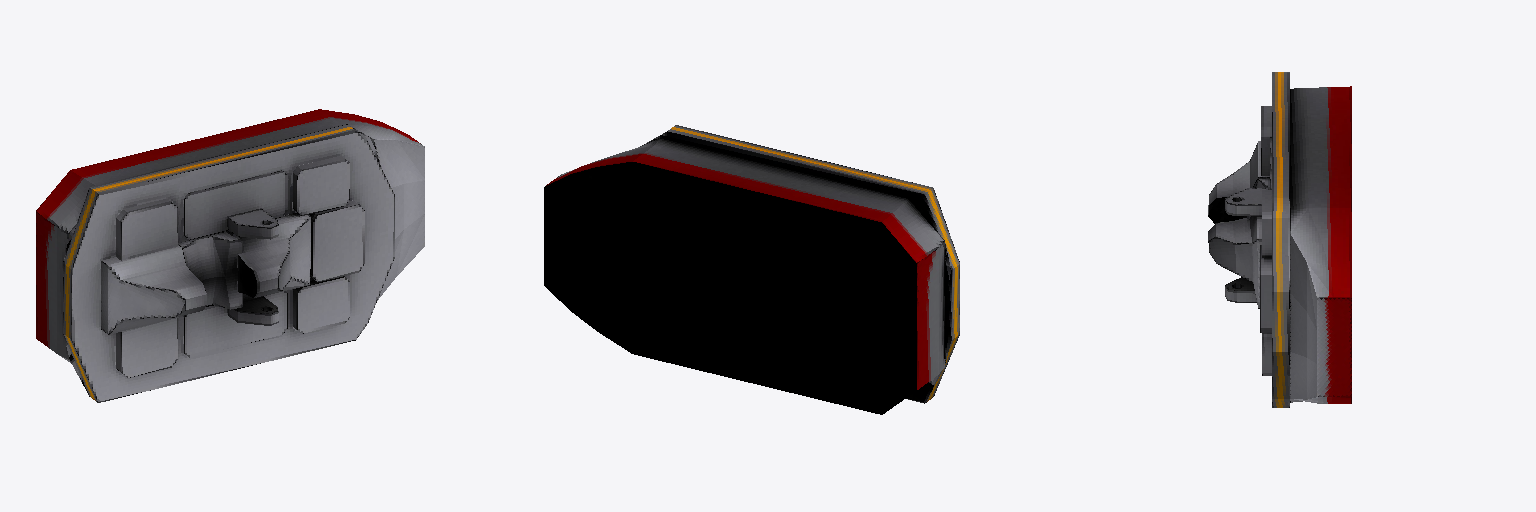
3 renders of one model, left to right at view 1: azimuth 30°, elevation 25°; view 2: azimuth 150°, elevation 25°; view 3: azimuth 270°, elevation 25°, orthographic.
Parts seen in each view (by area): view 1: r_foot; view 2: r_foot; view 3: r_foot.
Boxes of the visible parts, <box> form: r_foot: <box>36,109,424,402</box>; r_foot: <box>544,125,959,414</box>; r_foot: <box>1208,72,1351,407</box>.
Size of the model in its own units: 0.263 by 0.1399 by 0.0866.
1 materials, 1 textured.